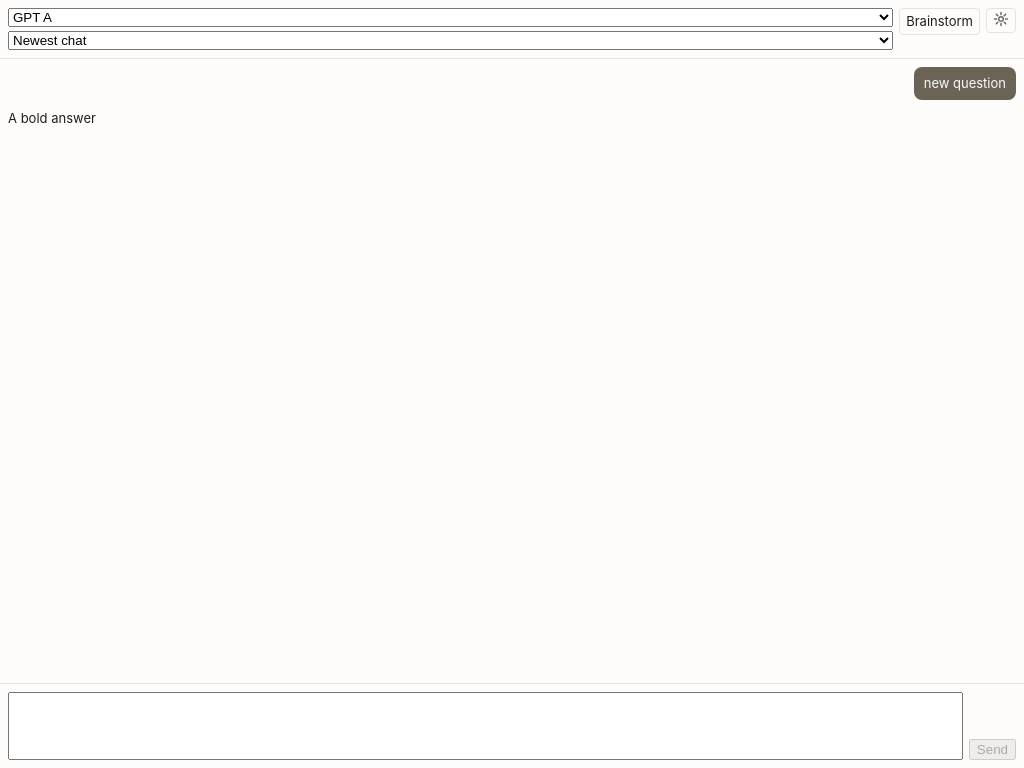
opens the newest saved chat on mount
Expected: the text "new question" is shown, [914, 67, 1016, 100]
Step 1. Select "Older chat" in the dropdown named "Chat" → (451, 40), box [8, 31, 893, 50]
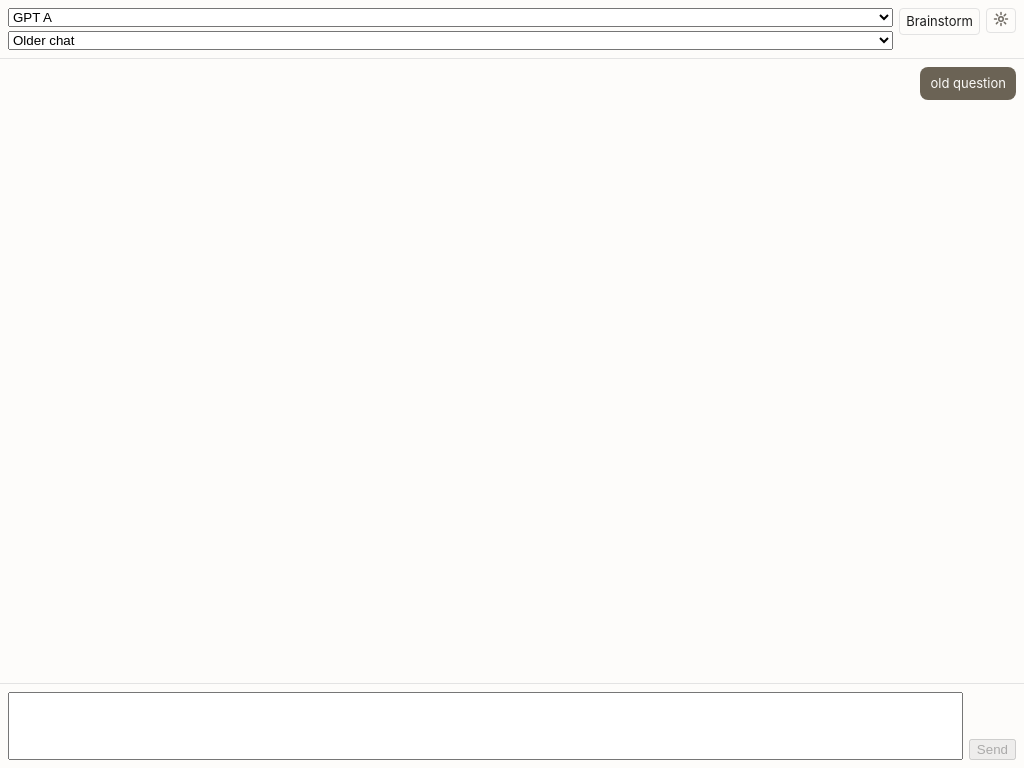
Expected: the text "old question" is shown, [920, 67, 1016, 100]
Step 2. Select "New chat" in the dropdown named "Chat" → (451, 40), box [8, 31, 893, 50]
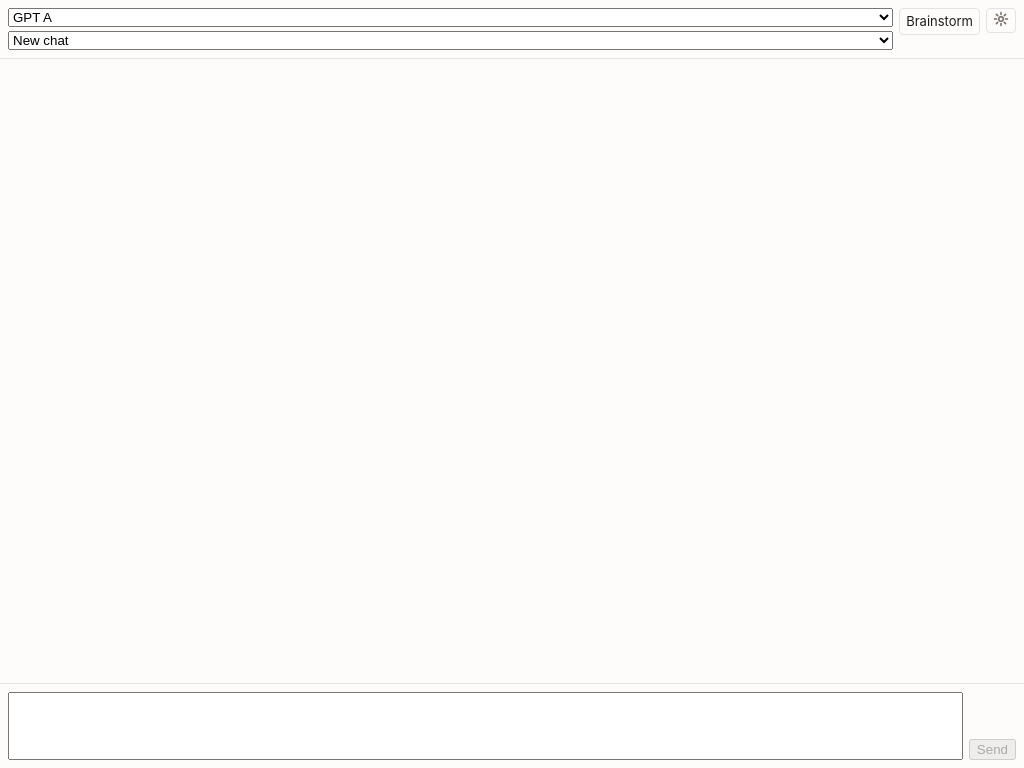
Expected: the text "old question" is gone
